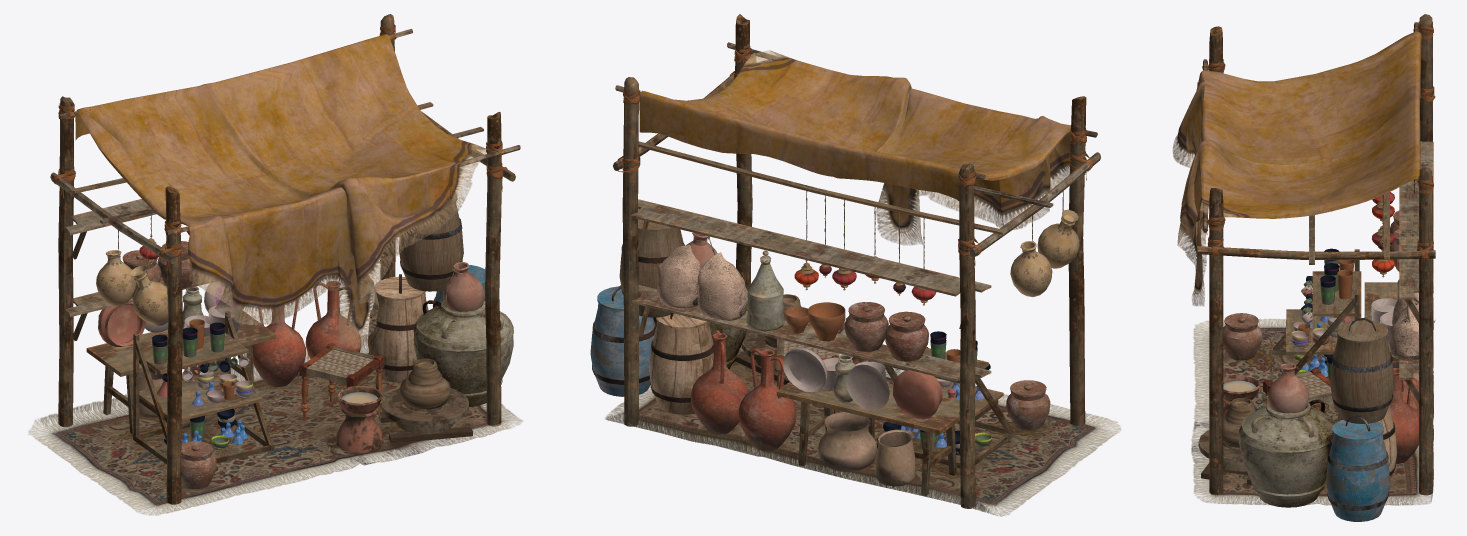
The model's file is xi_oam_stall_pottery.gltf.
3 views of the same model, side by side, from view 1: azimuth 30°, elevation 25°; view 2: azimuth 150°, elevation 25°; view 3: azimuth 270°, elevation 25° (orthographic). The views are drawn at different scales.
Parts seen in each view (by area): view 1: xi_oam_stall_pottery; view 2: xi_oam_stall_pottery; view 3: xi_oam_stall_pottery.
Boxes of the visible parts, x1=… form: xi_oam_stall_pottery: x1=28, y1=14, x2=523, y2=515; xi_oam_stall_pottery: x1=590, y1=14, x2=1121, y2=516; xi_oam_stall_pottery: x1=1172, y1=14, x2=1435, y2=521.
Bounding box in the file's own units: 4.46 × 3.23 × 2.52.
2 materials, 2 textured.
